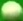white: (0, 0, 23, 21)
